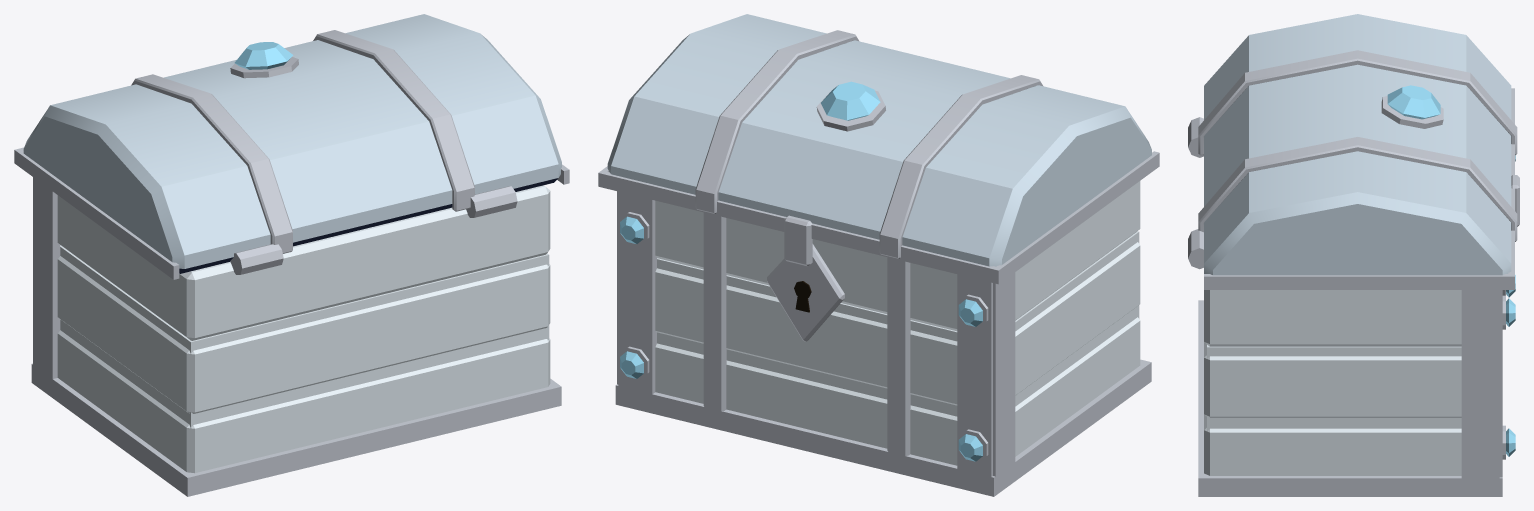
File: coffre_diamant.fbx
3 renders of one model, left to right at view 1: azimuth 30°, elevation 25°; view 2: azimuth 150°, elevation 25°; view 3: azimuth 270°, elevation 25°, orthographic. The views are drawn at different scales.
Visible parts, largest first — view 1: Corps, Couvercle, Ferrures, Gemme_0; view 2: Couvercle, Corps, Ferrures, Gemme_0; view 3: Couvercle, Corps, Ferrures, Gemme_0.
Part boxes in pixels (left/top/right/bottom): Corps: left=57, top=185, right=550, bottom=473; Couvercle: left=14, top=14, right=569, bottom=279; Ferrures: left=31, top=177, right=561, bottom=496; Gemme_0: left=234, top=42, right=293, bottom=69; Couvercle: left=598, top=14, right=1159, bottom=284; Corps: left=655, top=181, right=1140, bottom=465; Ferrures: left=615, top=191, right=1151, bottom=496; Gemme_0: left=821, top=81, right=880, bottom=120; Couvercle: left=1198, top=14, right=1519, bottom=289; Corps: left=1204, top=290, right=1461, bottom=475; Ferrures: left=1188, top=117, right=1505, bottom=496; Gemme_0: left=1387, top=85, right=1440, bottom=119.
Size of the model in its own units: 1.52 by 1.2 by 1.13.
